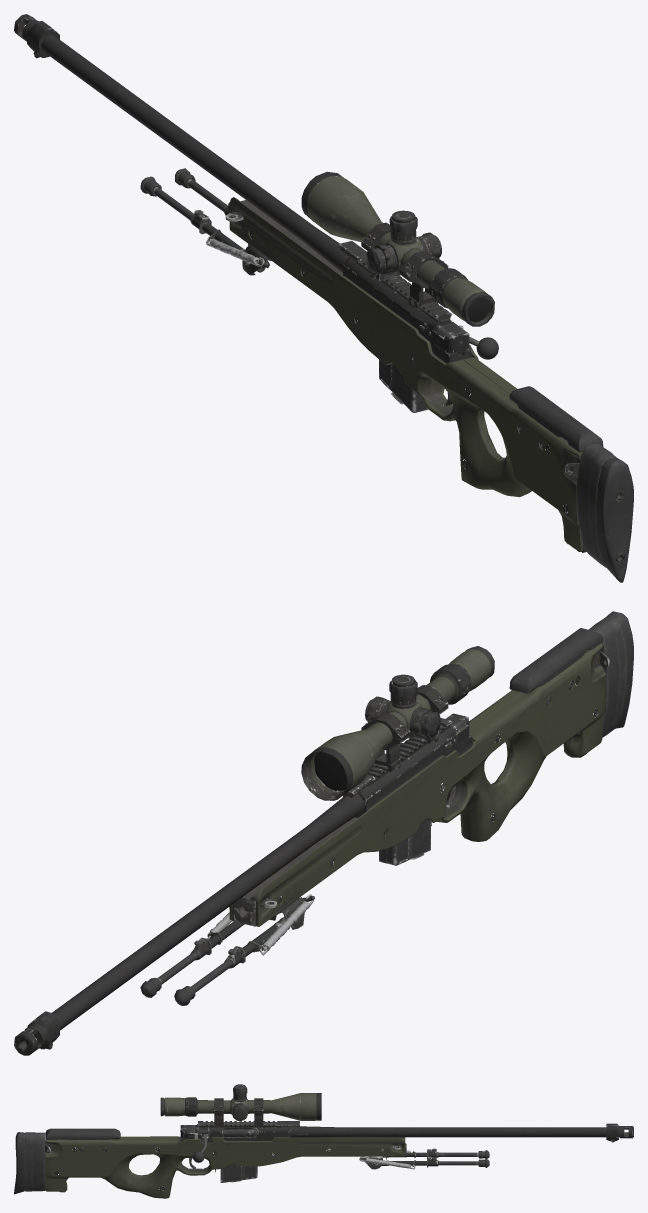
Rendered from awp.glb.
3 views of the same model, one above another, from view 1: azimuth 30°, elevation 25°; view 2: azimuth 150°, elevation 25°; view 3: azimuth 270°, elevation 25° (orthographic). The views are drawn at different scales.
Visible parts, largest first — view 1: rest_steel, magazine_steel; view 2: rest_steel, magazine_steel; view 3: rest_steel, magazine_steel, bolt_steel.
Boxes of the visible parts, x1,y1,x2,y2 form: rest_steel: (14,14,633,582); magazine_steel: (379,354,428,412); rest_steel: (14,611,633,1055); magazine_steel: (379,819,430,865); rest_steel: (14,1084,633,1198); magazine_steel: (220,1163,257,1182); bolt_steel: (193,1129,257,1162).
Size of the model in its own units: 0.0838 by 0.1974 by 1.01.
1 material, 1 textured.
